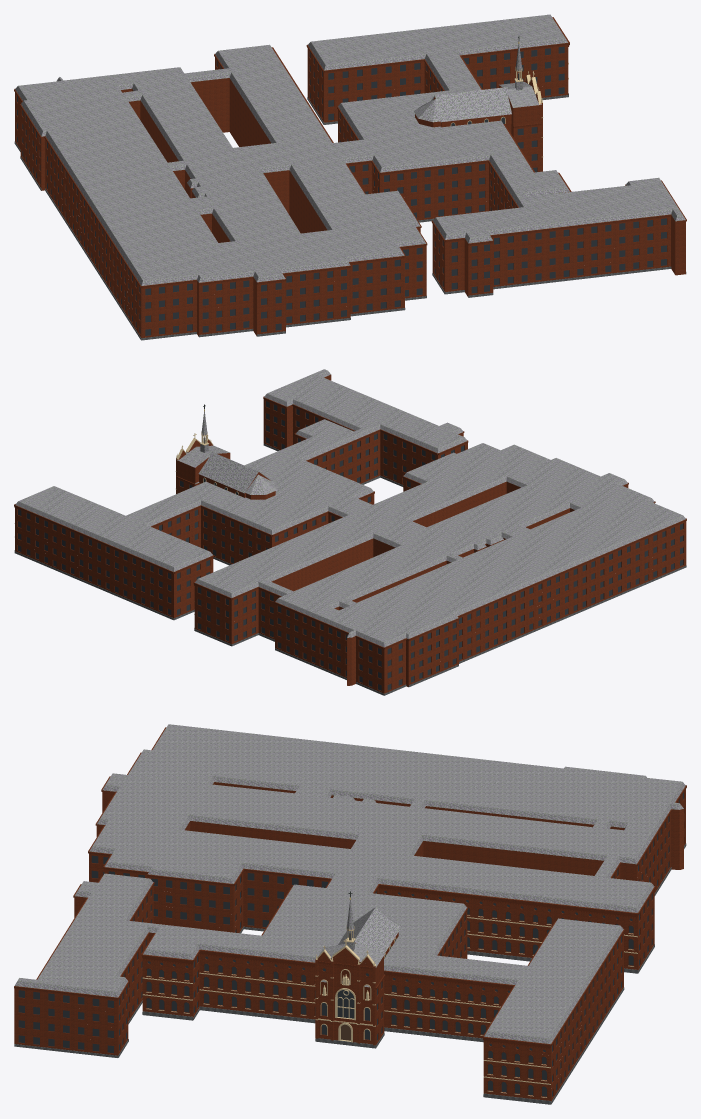
The picture shows the model from 3 angles, top to bottom: view 1: azimuth 30°, elevation 25°; view 2: azimuth 150°, elevation 25°; view 3: azimuth 270°, elevation 25°; orthographic projection. The views are drawn at different scales.
Parts seen in each view (by area): view 1: bldg_7345816_landmark; view 2: bldg_7345816_landmark; view 3: bldg_7345816_landmark.
Part boxes in pixels (x1,y1,x2,y2): bldg_7345816_landmark: (14,14,686,340); bldg_7345816_landmark: (14,369,686,695); bldg_7345816_landmark: (14,724,686,1104).
Bounding box in the file's own units: 172 × 36.9 × 154.
Materials: 10 (5 with a texture image).
